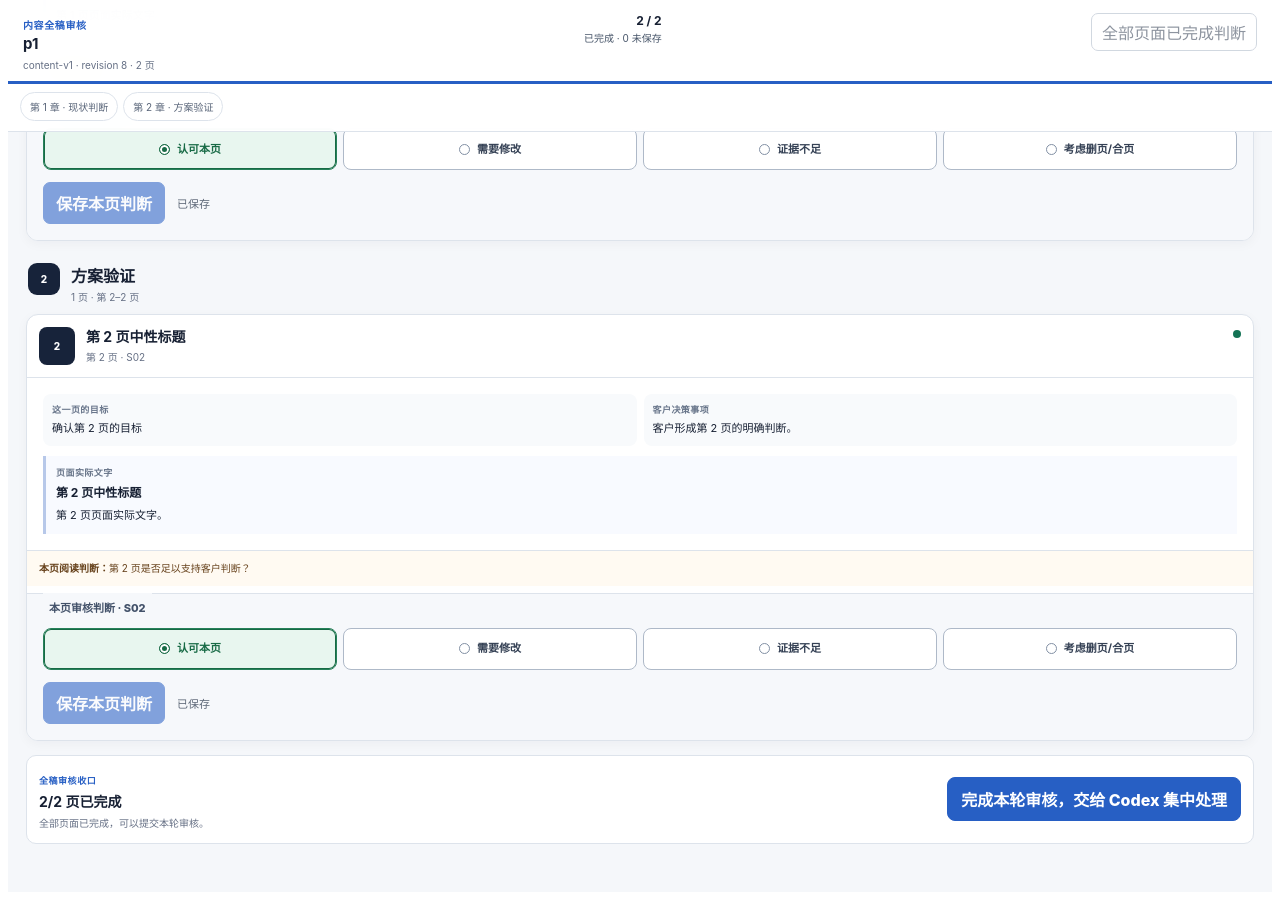
Test: ContentReviewViewModelController › enables full-deck submit only for complete clean decisions and freezes writes after success
(page scrolled)
Click the button "完成本轮审核，交给 Codex 集中处理".
click(1094, 799)  # box top-left (947, 777), bottom-right (1241, 821)
(page scrolled)
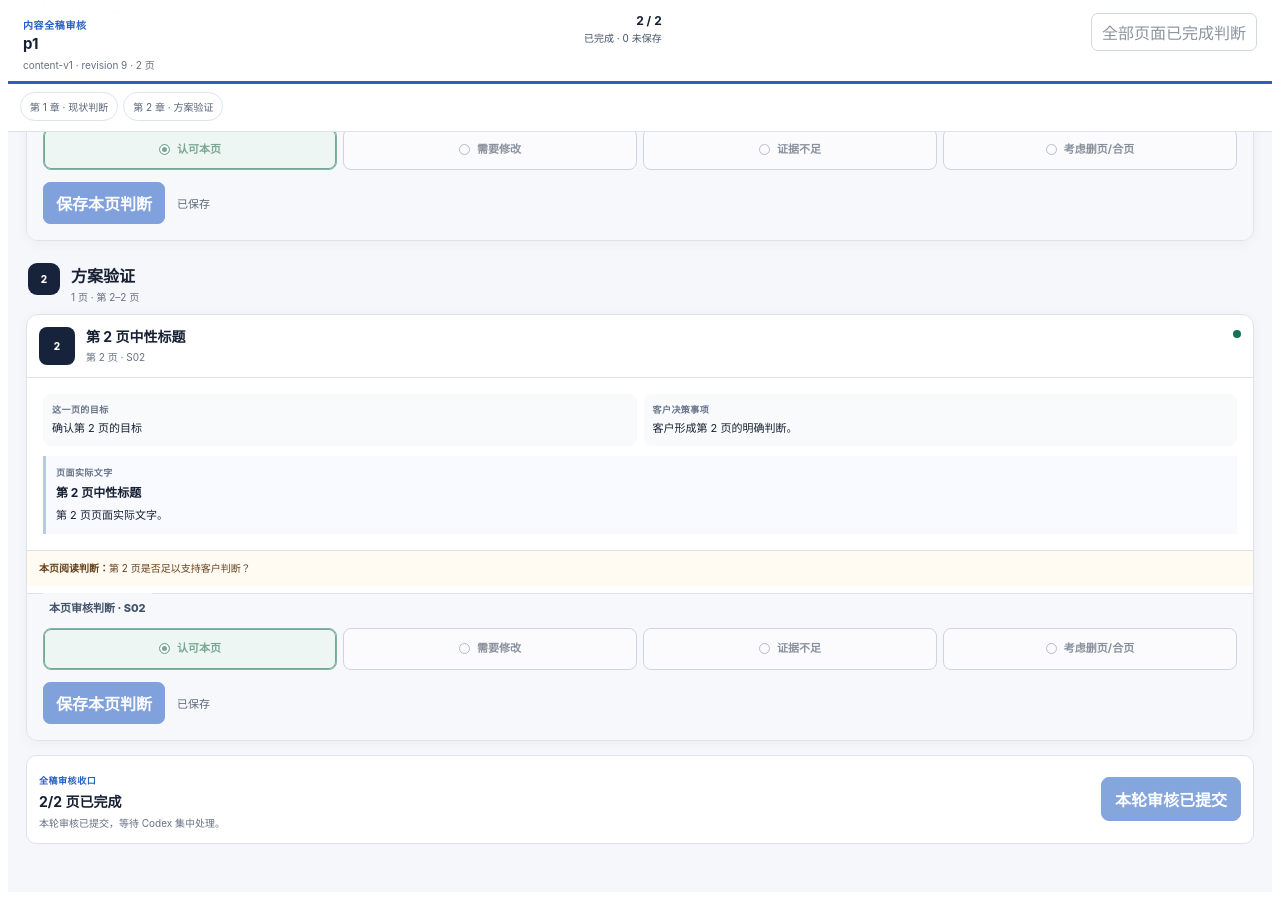
Expected: the button "本轮审核已提交" is disabled, top-left (1101, 777), bottom-right (1241, 821)
Expected: the radio button labelled "认可本页" below "第 1 页是否足以支持客户判断？" is disabled, top-left (43, 128), bottom-right (337, 170)
Expected: the radio button labelled "需要修改" below "第 1 页是否足以支持客户判断？" is disabled, top-left (343, 128), bottom-right (637, 170)
